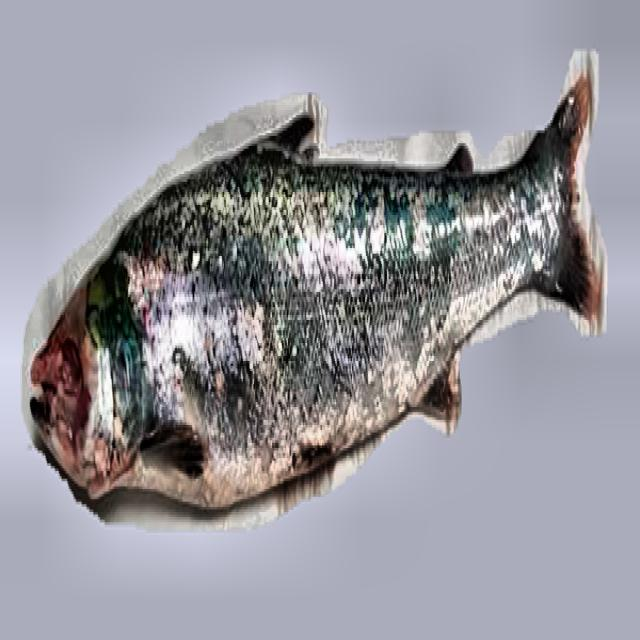mild_red: (117, 151, 570, 504)
